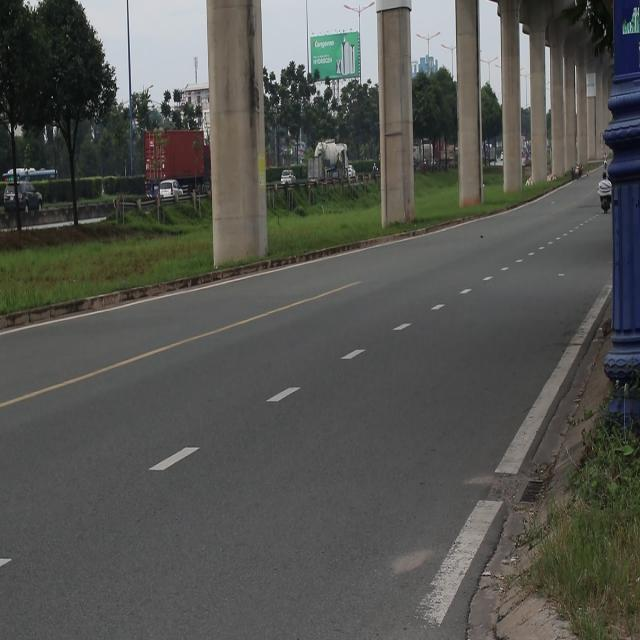car: (1, 185, 42, 215), (158, 181, 185, 201), (270, 169, 297, 188), (281, 170, 298, 185)
motorbike: (595, 194, 613, 226)
truck: (135, 131, 217, 184), (308, 156, 341, 205)
